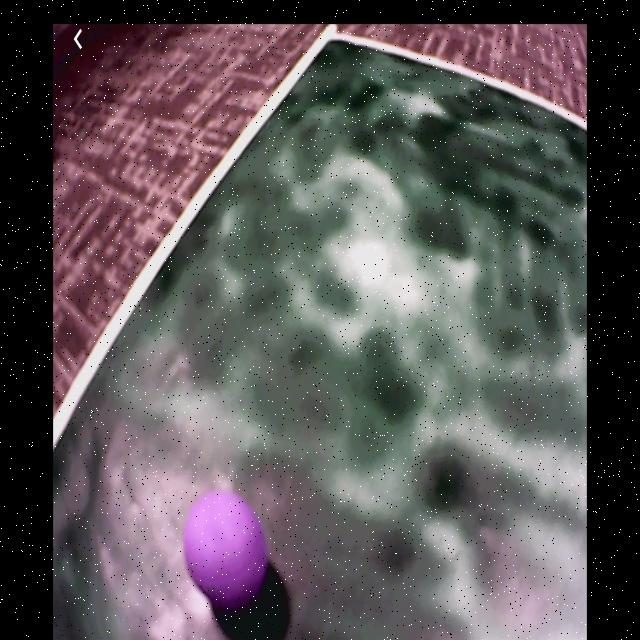ball: (187, 491, 270, 605)
